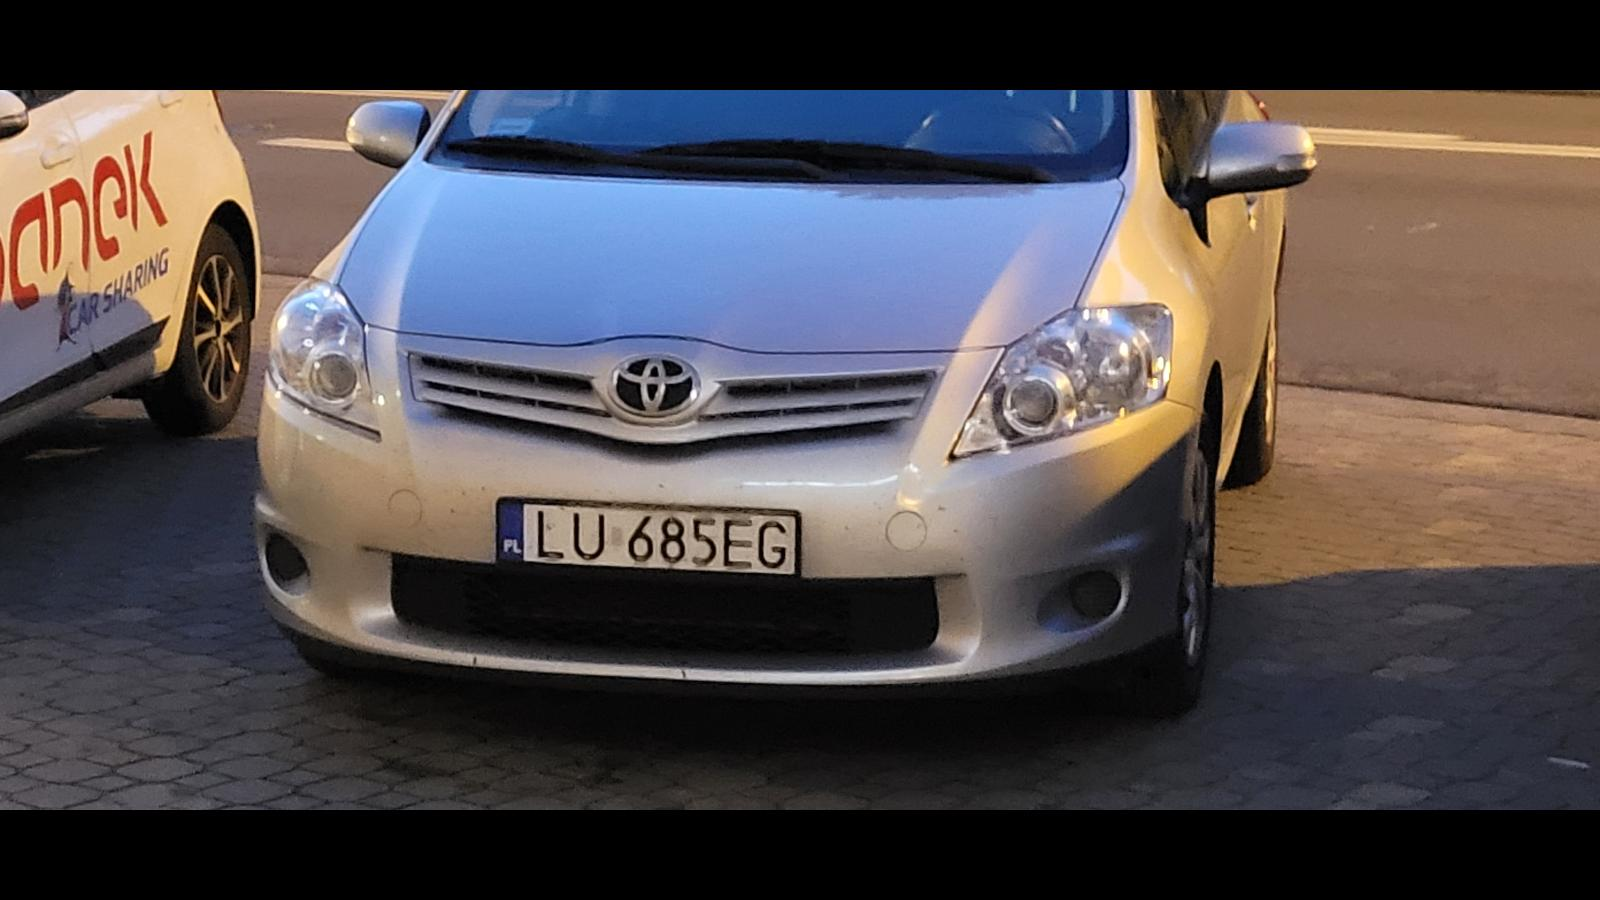plates: (496, 497, 802, 582)
